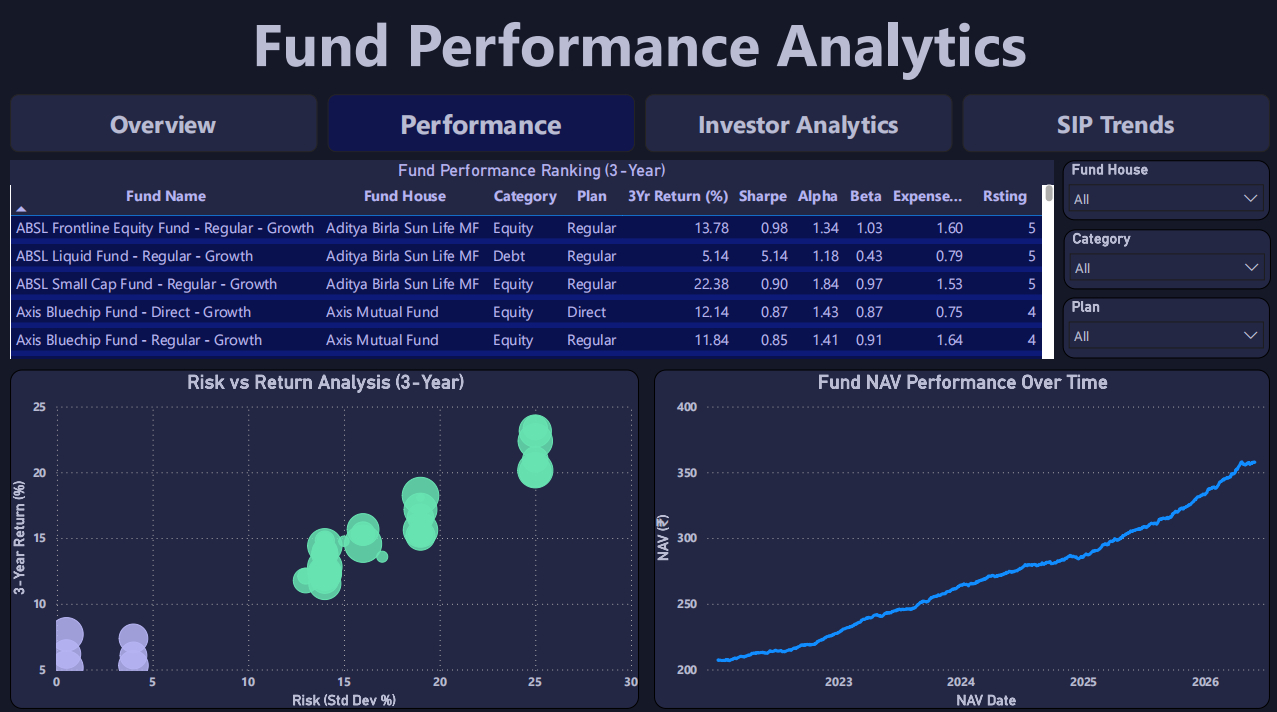

Layout of this report page (visuals, bound fields, positions):
{"tool":"powerbi","page":{"name":"Performance","canvas":[1280,720],"ordinal":1},"visuals":[{"type":"textbox","box":[68.6,0,1143.1,95.7],"z":0},{"type":"pageNavigator","box":[12.3,95.7,1257.7,58],"z":1000},{"type":"scatterChart","title":"Risk vs Return Analysis (3-Year)","fields":{"X":["public fact_performance.std_dev_ann_pct"],"Y":["public fact_performance.return_3yr_pct"],"Series":["public dim_fund.category"],"Size":["Sum(public fact_performance.aum_crore)"]},"box":[12.3,370.6,628.2,339.9],"z":2000},{"type":"tableEx","title":"Fund Performance Ranking (3-Year)","fields":{"Values":["public dim_fund.scheme_name","public dim_fund.fund_house","public dim_fund.category","public dim_fund.plan","public fact_performance.return_3yr_pct","public fact_performance.sharpe_ratio","public fact_performance.alpha","public fact_performance.beta","public fact_performance.expense_ratio_pct","public fact_performance.morningstar_rating"]},"box":[12.3,162,1041.7,197.5],"z":3000},{"type":"slicer","fields":{"Values":["public dim_fund.fund_house"]},"box":[1062.6,162,207.4,60.1],"z":4000},{"type":"slicer","fields":{"Values":["public dim_fund.category"]},"box":[1063.8,230.7,207.4,60.1],"z":5000},{"type":"slicer","fields":{"Values":["public dim_fund.plan"]},"box":[1062.6,299.4,207.4,60.1],"z":6000},{"type":"lineChart","title":"Fund NAV Performance Over Time","fields":{"Y":["Avg(public fact_nav.nav)"],"Category":["public fact_nav.nav_date"]},"box":[655.2,370.6,614.7,339.9],"z":7000}]}

Visuals, with their boxes in screenshot pixels (x1, y1, x2, y2), scaled from the page's 1280x720 canvas onto the 1277x712 screenshot:
textbox: 68/0/1209/95
pageNavigator: 12/95/1267/152
"Risk vs Return Analysis (3-Year)" scatterChart: 12/366/639/703
"Fund Performance Ranking (3-Year)" tableEx: 12/160/1052/356
slicer - public dim_fund.fund_house: 1060/160/1267/220
slicer - public dim_fund.category: 1061/228/1268/288
slicer - public dim_fund.plan: 1060/296/1267/356
"Fund NAV Performance Over Time" lineChart: 654/366/1267/703
